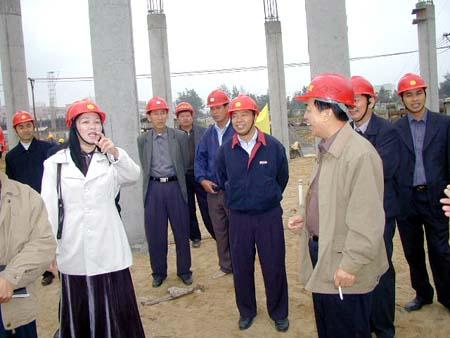helmet: (301, 73, 355, 107), (70, 101, 108, 127), (398, 74, 428, 97), (230, 95, 260, 116), (349, 79, 377, 101), (207, 90, 230, 109), (14, 111, 36, 130), (148, 97, 171, 115), (177, 103, 196, 118)
